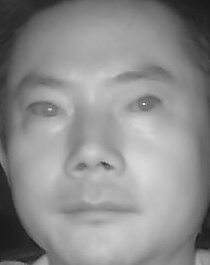eye: (23, 97, 67, 123), (123, 91, 164, 116)
mouth: (61, 189, 140, 232)
